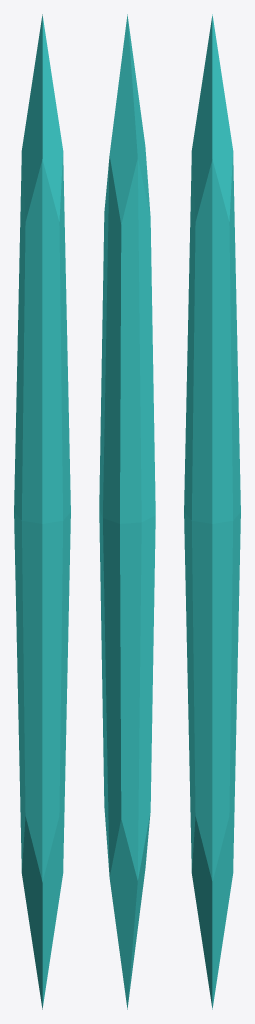
Rendered from Nucleo6.glb.
3 views of the same model, side by side, from view 1: azimuth 90°, elevation 25°; view 2: azimuth 210°, elevation 25°; view 3: azimuth 270°, elevation 25° (orthographic).
Visible parts, largest first — view 1: Cube; view 2: Cube; view 3: Cube.
Part boxes in pixels (x1=…): Cube: x1=14, y1=14, x2=70, y2=1009; Cube: x1=99, y1=14, x2=155, y2=1009; Cube: x1=184, y1=14, x2=240, y2=1009.
Bounding box in the file's own units: 1.68 × 32.4 × 1.68.
